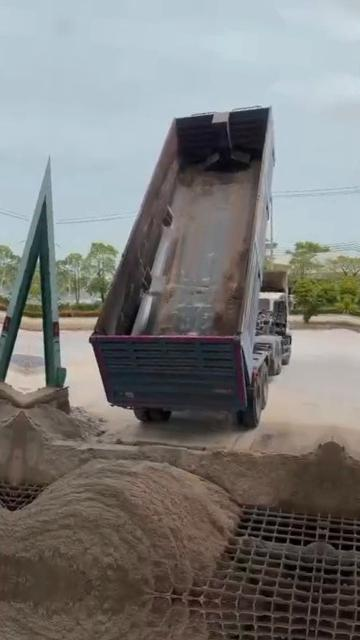sand: (14, 405, 332, 511), (6, 461, 237, 592), (211, 247, 247, 335), (236, 537, 299, 559)
